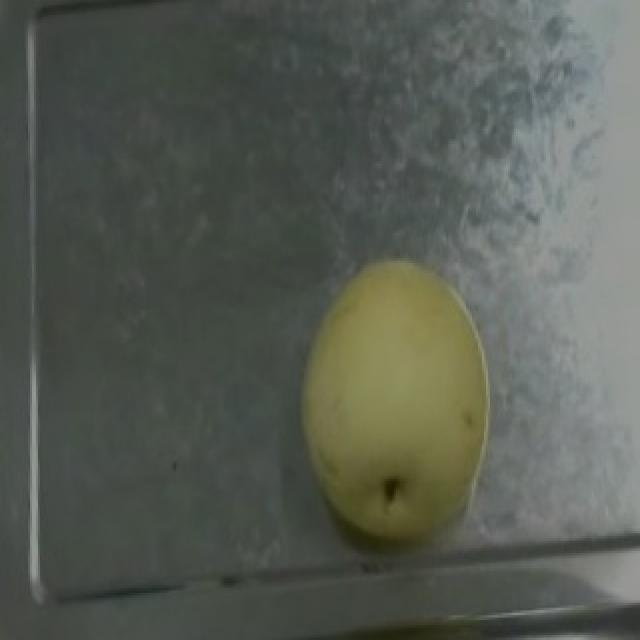Fruit: (284, 245, 508, 556)
